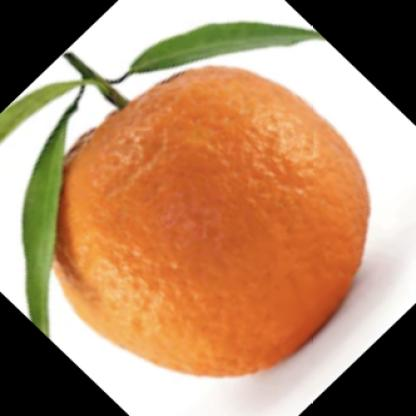fresh: (49, 68, 372, 376)
